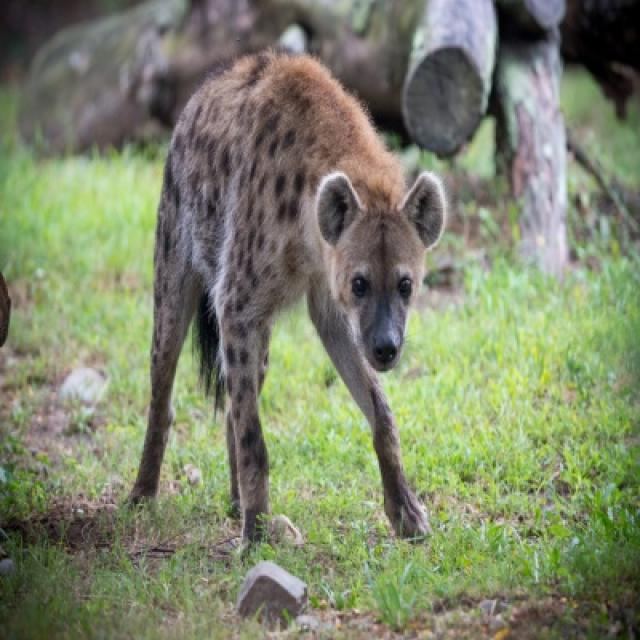hyena: (128, 50, 448, 547)
